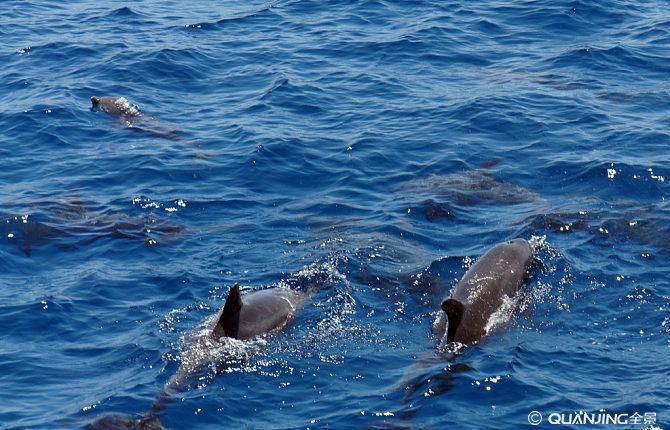fish: (81, 279, 318, 429), (386, 238, 536, 414)
